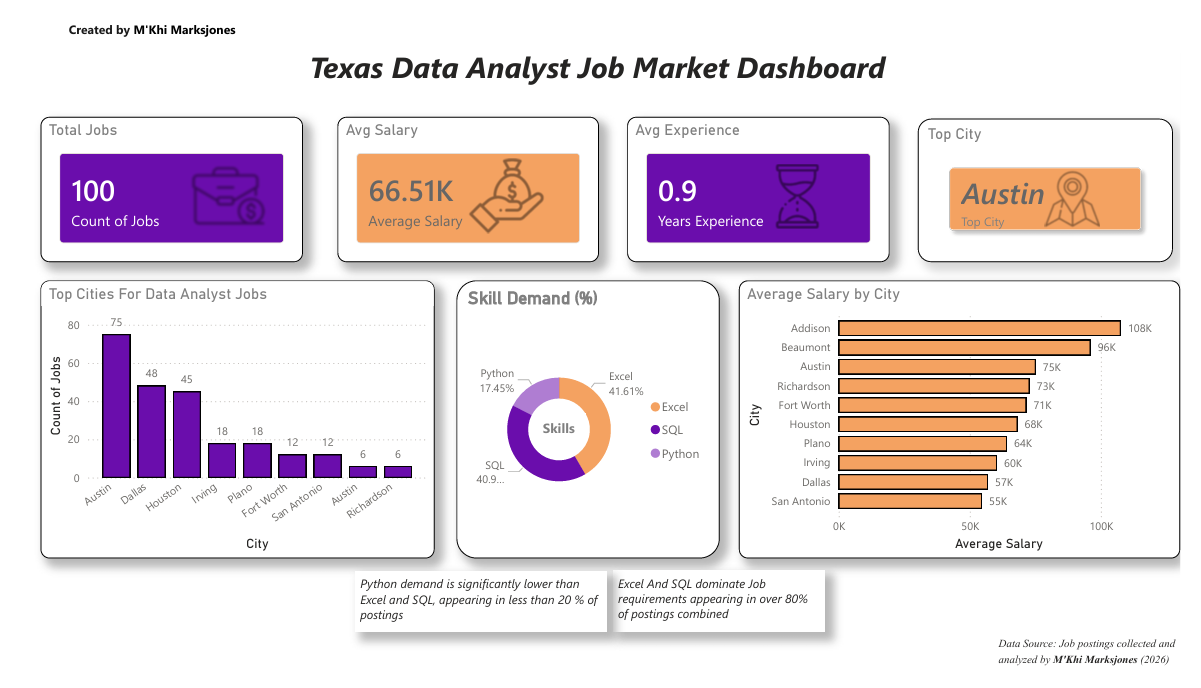

Layout of this report page (visuals, bound fields, positions):
{"tool":"powerbi","page":{"name":"Page 1","canvas":[1280,720],"ordinal":0},"visuals":[{"type":"clusteredColumnChart","title":"Top Cities For Data Analyst Jobs","fields":{"Y":["CountNonNull(Job Market Data Analyst project (2).Job Title)"],"Category":["Job Market Data Analyst project (2).City"]},"box":[25.3,290,434,305.6],"z":0},{"type":"barChart","title":"Average Salary by City","fields":{"Category":["Job Market Data Analyst project (2).City"],"Y":["Avg(Job Market Data Analyst project (2).Average Salary)"]},"box":[798,290,457,306],"z":1000},{"type":"cardVisual","title":"Total Jobs","fields":{"Data":["CountNonNull(Job Market Data Analyst project.Job Title)"]},"box":[25.3,110.3,288.7,159.6],"z":2000},{"type":"cardVisual","title":"Avg Salary","fields":{"Data":["Avg(Job Market Data Analyst project (2).Average Salary)"]},"box":[340,110,288,160],"z":3000},{"type":"cardVisual","title":"Avg Experience","fields":{"Data":["Avg(Job Market Data Analyst project (2).Years Experience)"]},"box":[670.8,110.3,288.7,159.6],"z":4000},{"type":"cardVisual","title":"Top City","fields":{"Data":["Job Market Data Analyst project (2).Top City Card"]},"box":[990.7,111.6,280.9,158.3],"z":5000},{"type":"image","box":[177.1,153.1,109.6,88.2],"z":6000},{"type":"image","box":[476.8,155.7,122.6,82.4],"z":7000},{"type":"image","box":[806.4,161.5,104.5,71.4],"z":8000},{"type":"image","box":[1131.4,167.4,60.3,65.5],"z":9000},{"type":"donutChart","title":"Skill Demand (%)","fields":{"Category":["Job Market Data Analyst project (2).Attribute"],"Y":["CountNonNull(Job Market Data Analyst project (2).Attribute)"]},"box":[482.7,290,290,305.6],"z":10000},{"type":"textbox","box":[572.9,436.6,52.5,30.5],"z":11000},{"type":"textbox","box":[655.9,609.2,232.9,67.5],"z":12000},{"type":"textbox","box":[320,609,277,67],"z":13000},{"type":"textbox","box":[315.6,26.9,679.7,56],"z":14000},{"type":"textbox","box":[1075.2,673.7,205.2,46.3],"z":15000},{"type":"textbox","box":[51.5,0,299.9,29.8],"z":16000}]}

Visuals, with their boxes in screenshot pixels (x1, y1, x2, y2), scaled from the page's 1280x720 canvas onto the 1201x688 screenshot:
"Top Cities For Data Analyst Jobs" clusteredColumnChart: 24,277,431,569
"Average Salary by City" barChart: 749,277,1178,570
"Total Jobs" cardVisual: 24,105,295,258
"Avg Salary" cardVisual: 319,105,589,258
"Avg Experience" cardVisual: 629,105,900,258
"Top City" cardVisual: 930,107,1193,258
image: 166,146,269,231
image: 447,149,562,228
image: 757,154,855,223
image: 1062,160,1118,223
"Skill Demand (%)" donutChart: 453,277,725,569
textbox: 538,417,587,446
textbox: 615,582,834,647
textbox: 300,582,560,646
textbox: 296,26,934,79
textbox: 1009,644,1200,687
textbox: 48,0,330,28
